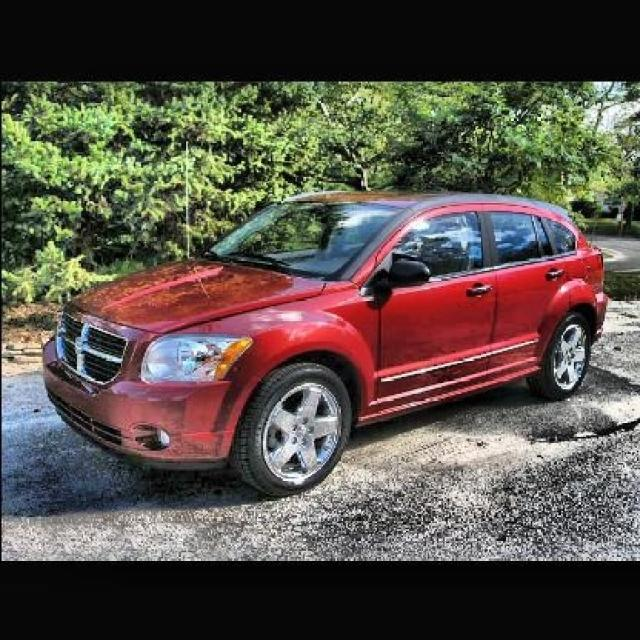maroon: (47, 190, 609, 471)
